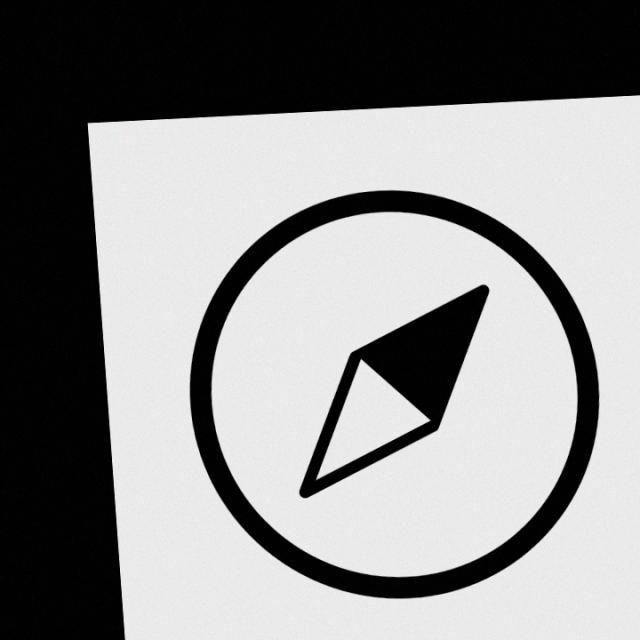compass: (180, 189, 610, 612)
